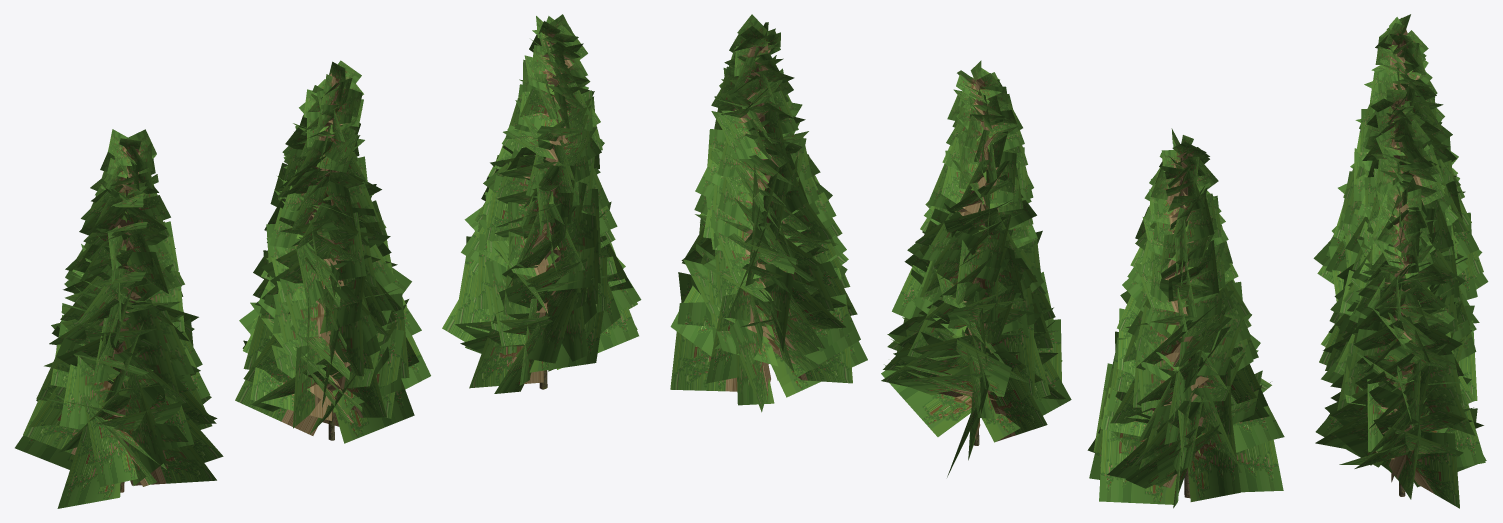
The model's file is tree_pack_01.glb.
The picture shows the model from 3 angles, left to right: view 1: azimuth 30°, elevation 25°; view 2: azimuth 150°, elevation 25°; view 3: azimuth 270°, elevation 25°; orthographic projection. The views are drawn at different scales.
Parts seen in each view (by area): view 1: Tree-1_1, Tree_0, Tree-2_2; view 2: Tree-2_2, Tree_0, Tree-1_1; view 3: Tree-2_2, Tree-1_1, Tree_0.
Part boxes in pixels (left/top/right/bottom): Tree-1_1: left=235, top=60, right=430, bottom=443; Tree_0: left=15, top=129, right=223, bottom=508; Tree-2_2: left=442, top=14, right=641, bottom=393; Tree-2_2: left=670, top=14, right=867, bottom=412; Tree_0: left=1087, top=128, right=1284, bottom=508; Tree-1_1: left=881, top=60, right=1071, bottom=477; Tree-2_2: left=1315, top=181, right=1486, bottom=508; Tree-1_1: left=1319, top=89, right=1477, bottom=400; Tree_0: left=1313, top=14, right=1488, bottom=323.
Bounding box in the file's own units: 2.74 × 1.72 × 0.8422.
2 materials, 2 textured.
